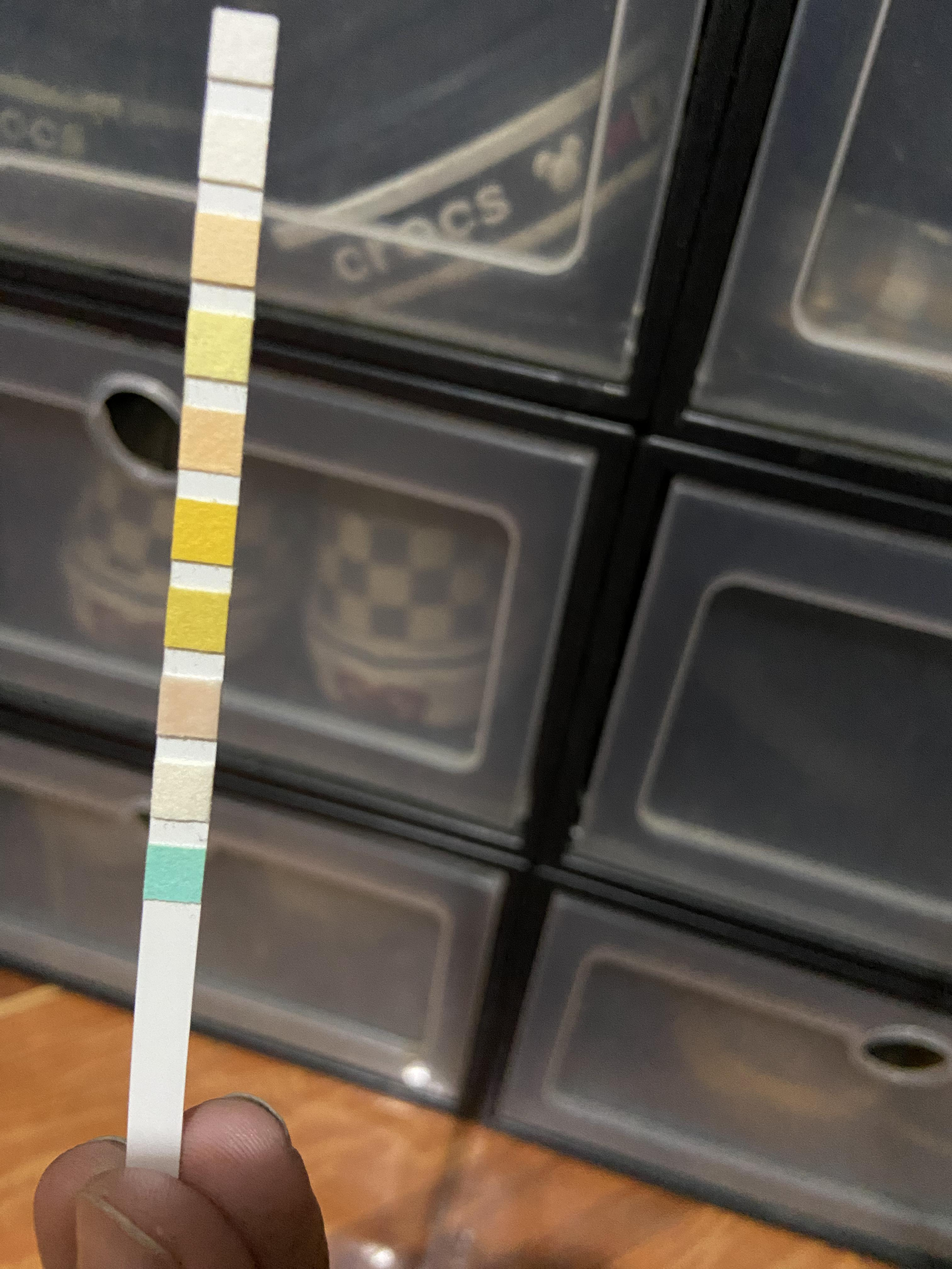Bilirubin: (154, 766, 209, 817)
Blood: (175, 505, 233, 559)
Glucose: (148, 848, 202, 899)
Ketone: (162, 681, 218, 734)
Leukocytes: (212, 18, 274, 74)
Nitrite: (204, 124, 264, 178)
Protein: (187, 320, 248, 373)
SpGravity: (168, 594, 225, 648)
Urobilinogen: (196, 221, 256, 279)
pH: (183, 415, 241, 466)
strip: (127, 8, 279, 1155)
